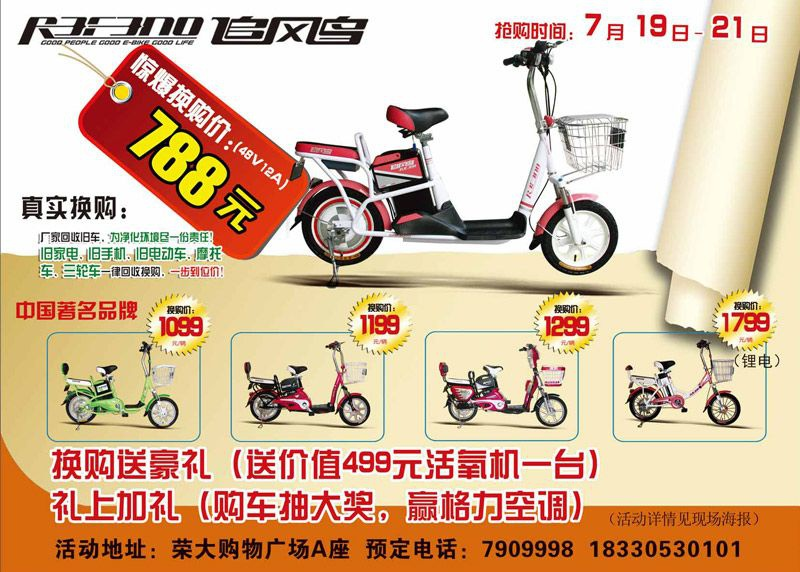non-vehicle: (291, 38, 633, 287), (431, 342, 571, 433), (67, 332, 185, 432), (240, 341, 377, 426), (626, 338, 743, 426)
